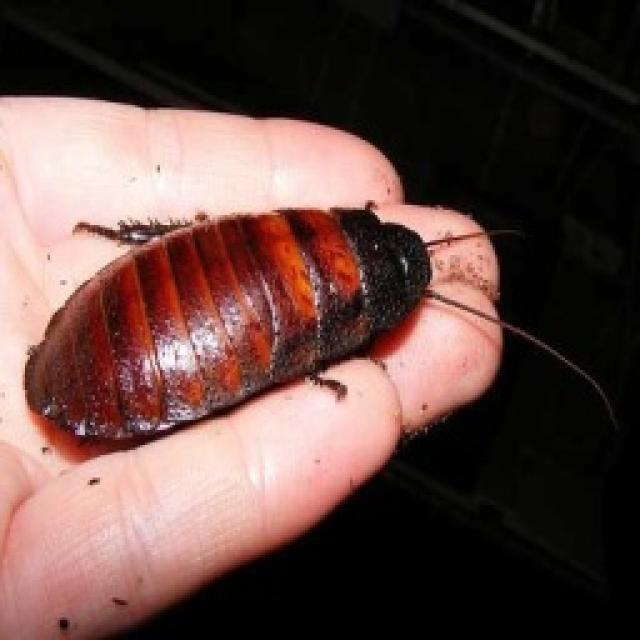cockroach: (3, 138, 479, 484)
